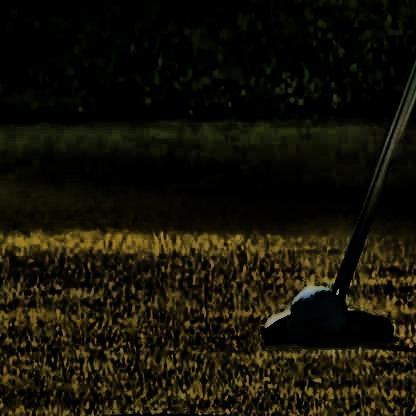golfball: (284, 281, 343, 344)
